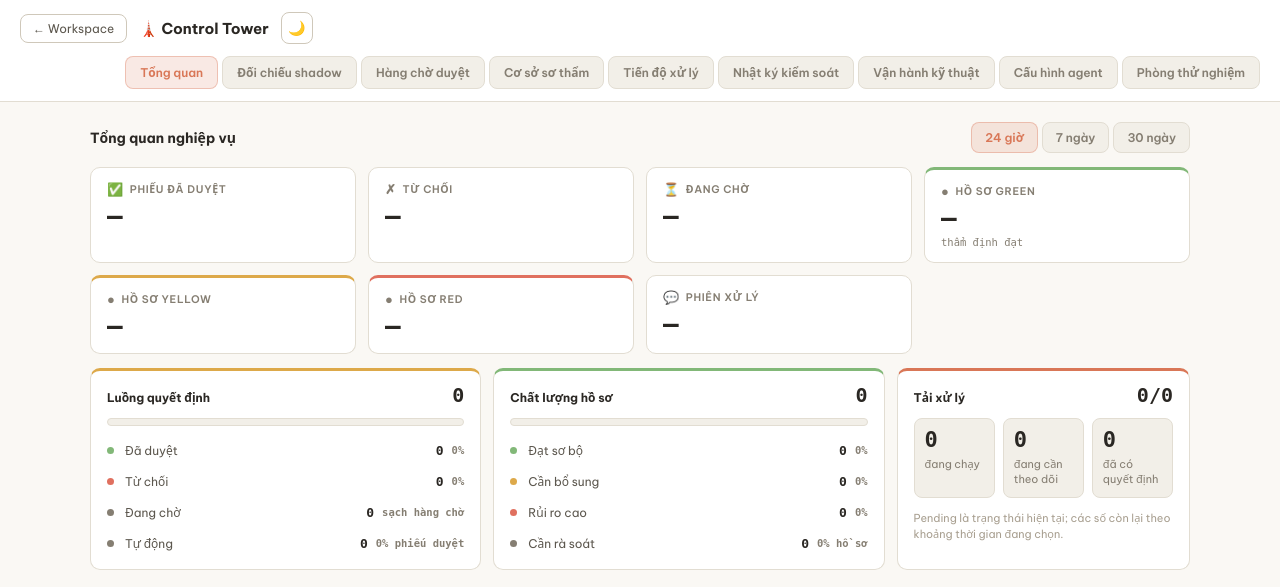
Test: ControlTower › tab Đối chiếu shadow chỉ fetch khi admin mở tab
This screenshot has width=1280, height=587.
Step 1. Click the button "Đối chiếu shadow" → (290, 72), box [222, 56, 357, 89]
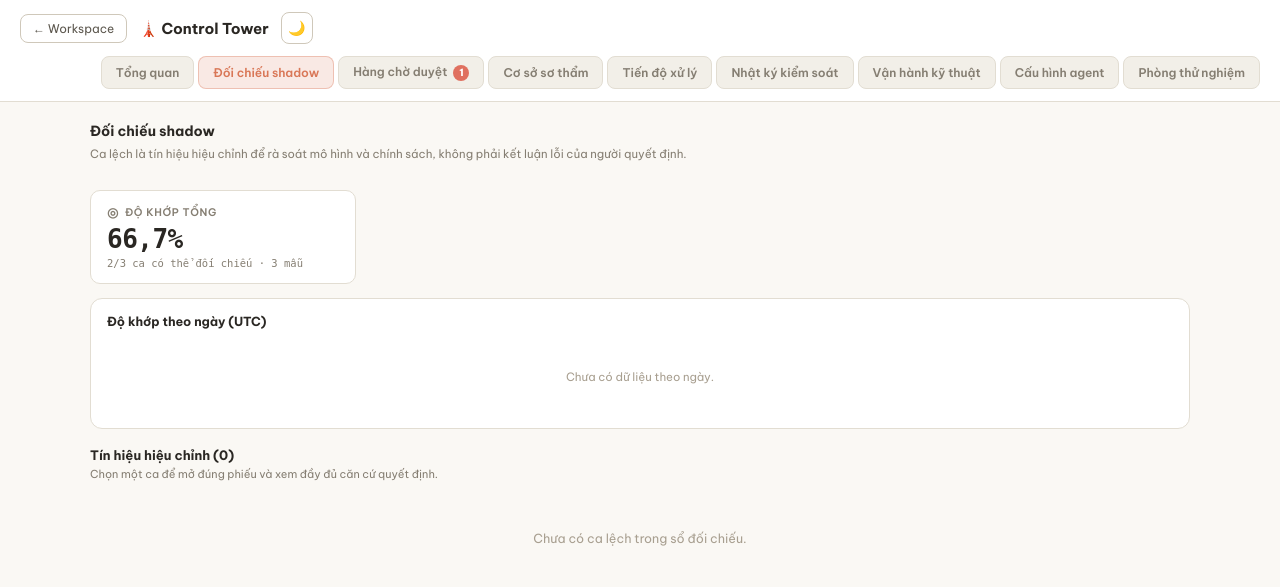
Now the text "66,7%" is shown, box [107, 226, 183, 252]
